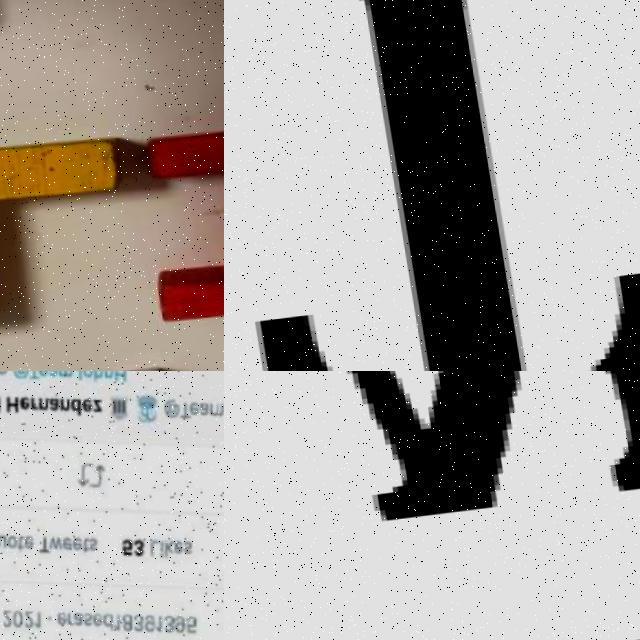0: (5, 611, 20, 630)
1: (25, 609, 39, 632), (106, 615, 118, 634), (147, 617, 158, 636)
2: (17, 611, 30, 631), (0, 610, 9, 629)
3: (126, 616, 141, 636), (156, 617, 171, 636), (127, 541, 141, 559)
5: (116, 540, 130, 559), (179, 618, 192, 638)
8: (114, 616, 130, 635)
9: (136, 617, 151, 636), (168, 618, 181, 637)
I: (133, 117, 224, 333)
L: (0, 132, 147, 349)
N: (224, 371, 640, 560)
T: (224, 0, 640, 371)
